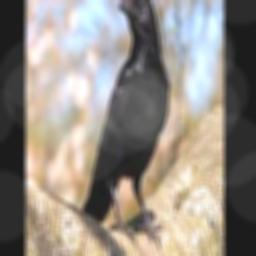Crow: (82, 0, 170, 244)
